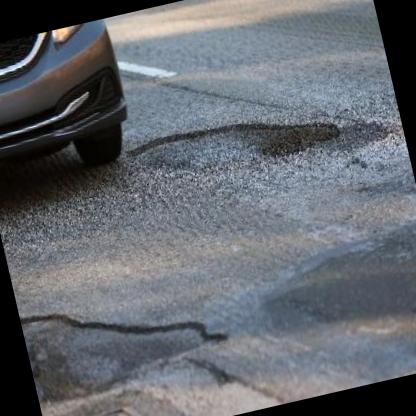pothole: (18, 267, 235, 408), (123, 92, 343, 194)
